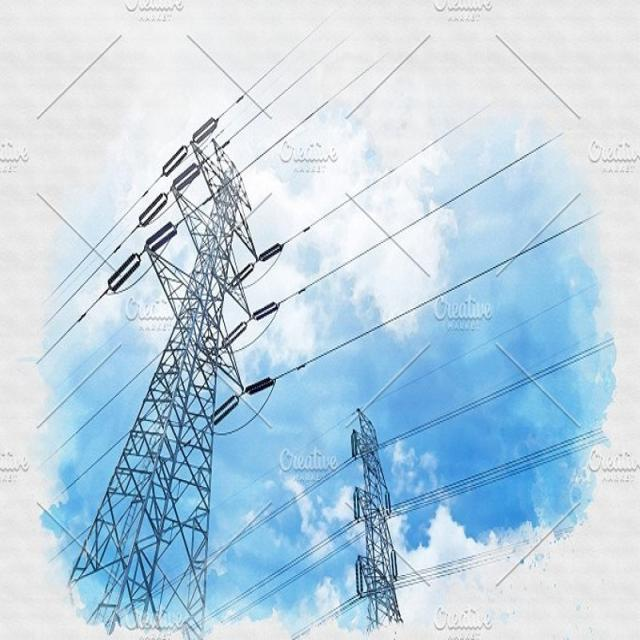non-critical vegetation: (78, 103, 284, 633), (344, 398, 409, 630)
